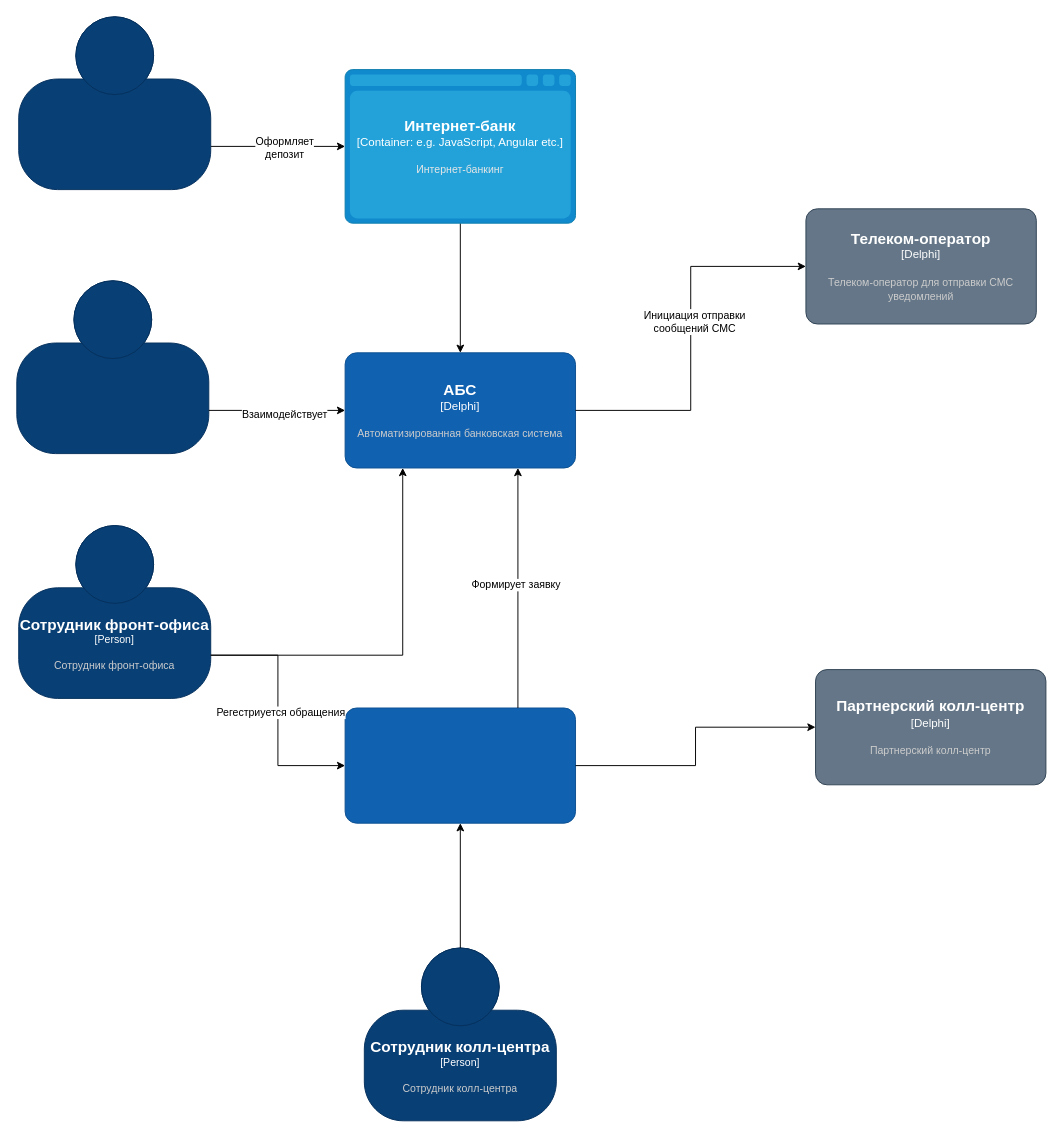
Image size: 1063x1138. Some labels were removed from this diagram. Here are the shapes that lost their labels. From the top down, the centre of each, then its label:
At (x=114, y=103): "Клиент [Person] Клиент".
At (x=112, y=367): "Сотрудник бек-офиса [Person] Сотрудник бек-офиса".
At (x=460, y=765): "Система кол-центра [Delphi] Система кол-центра".
